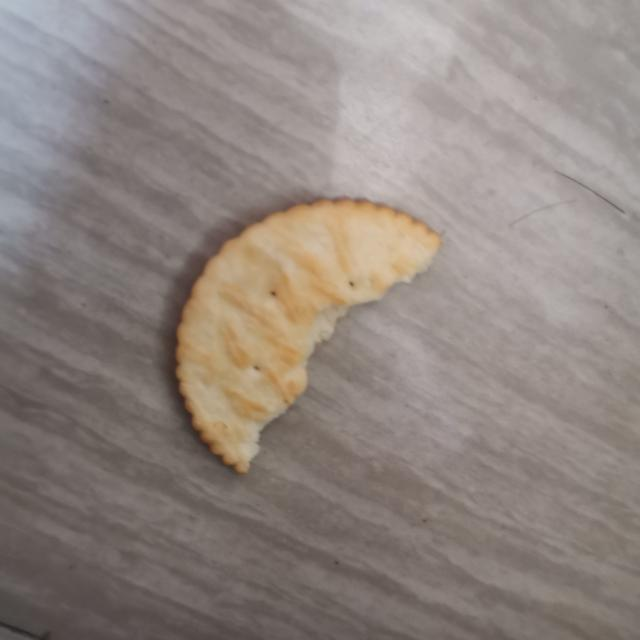Broken: (174, 194, 442, 474)
